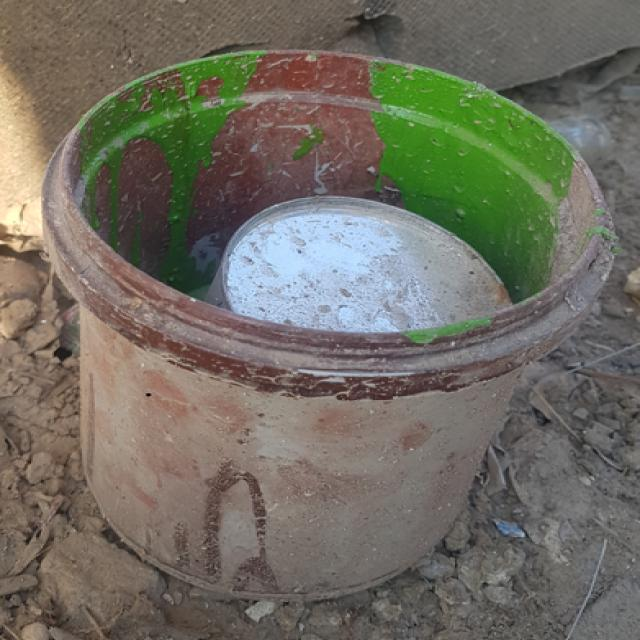electronic: (38, 45, 620, 602), (209, 190, 528, 336)
